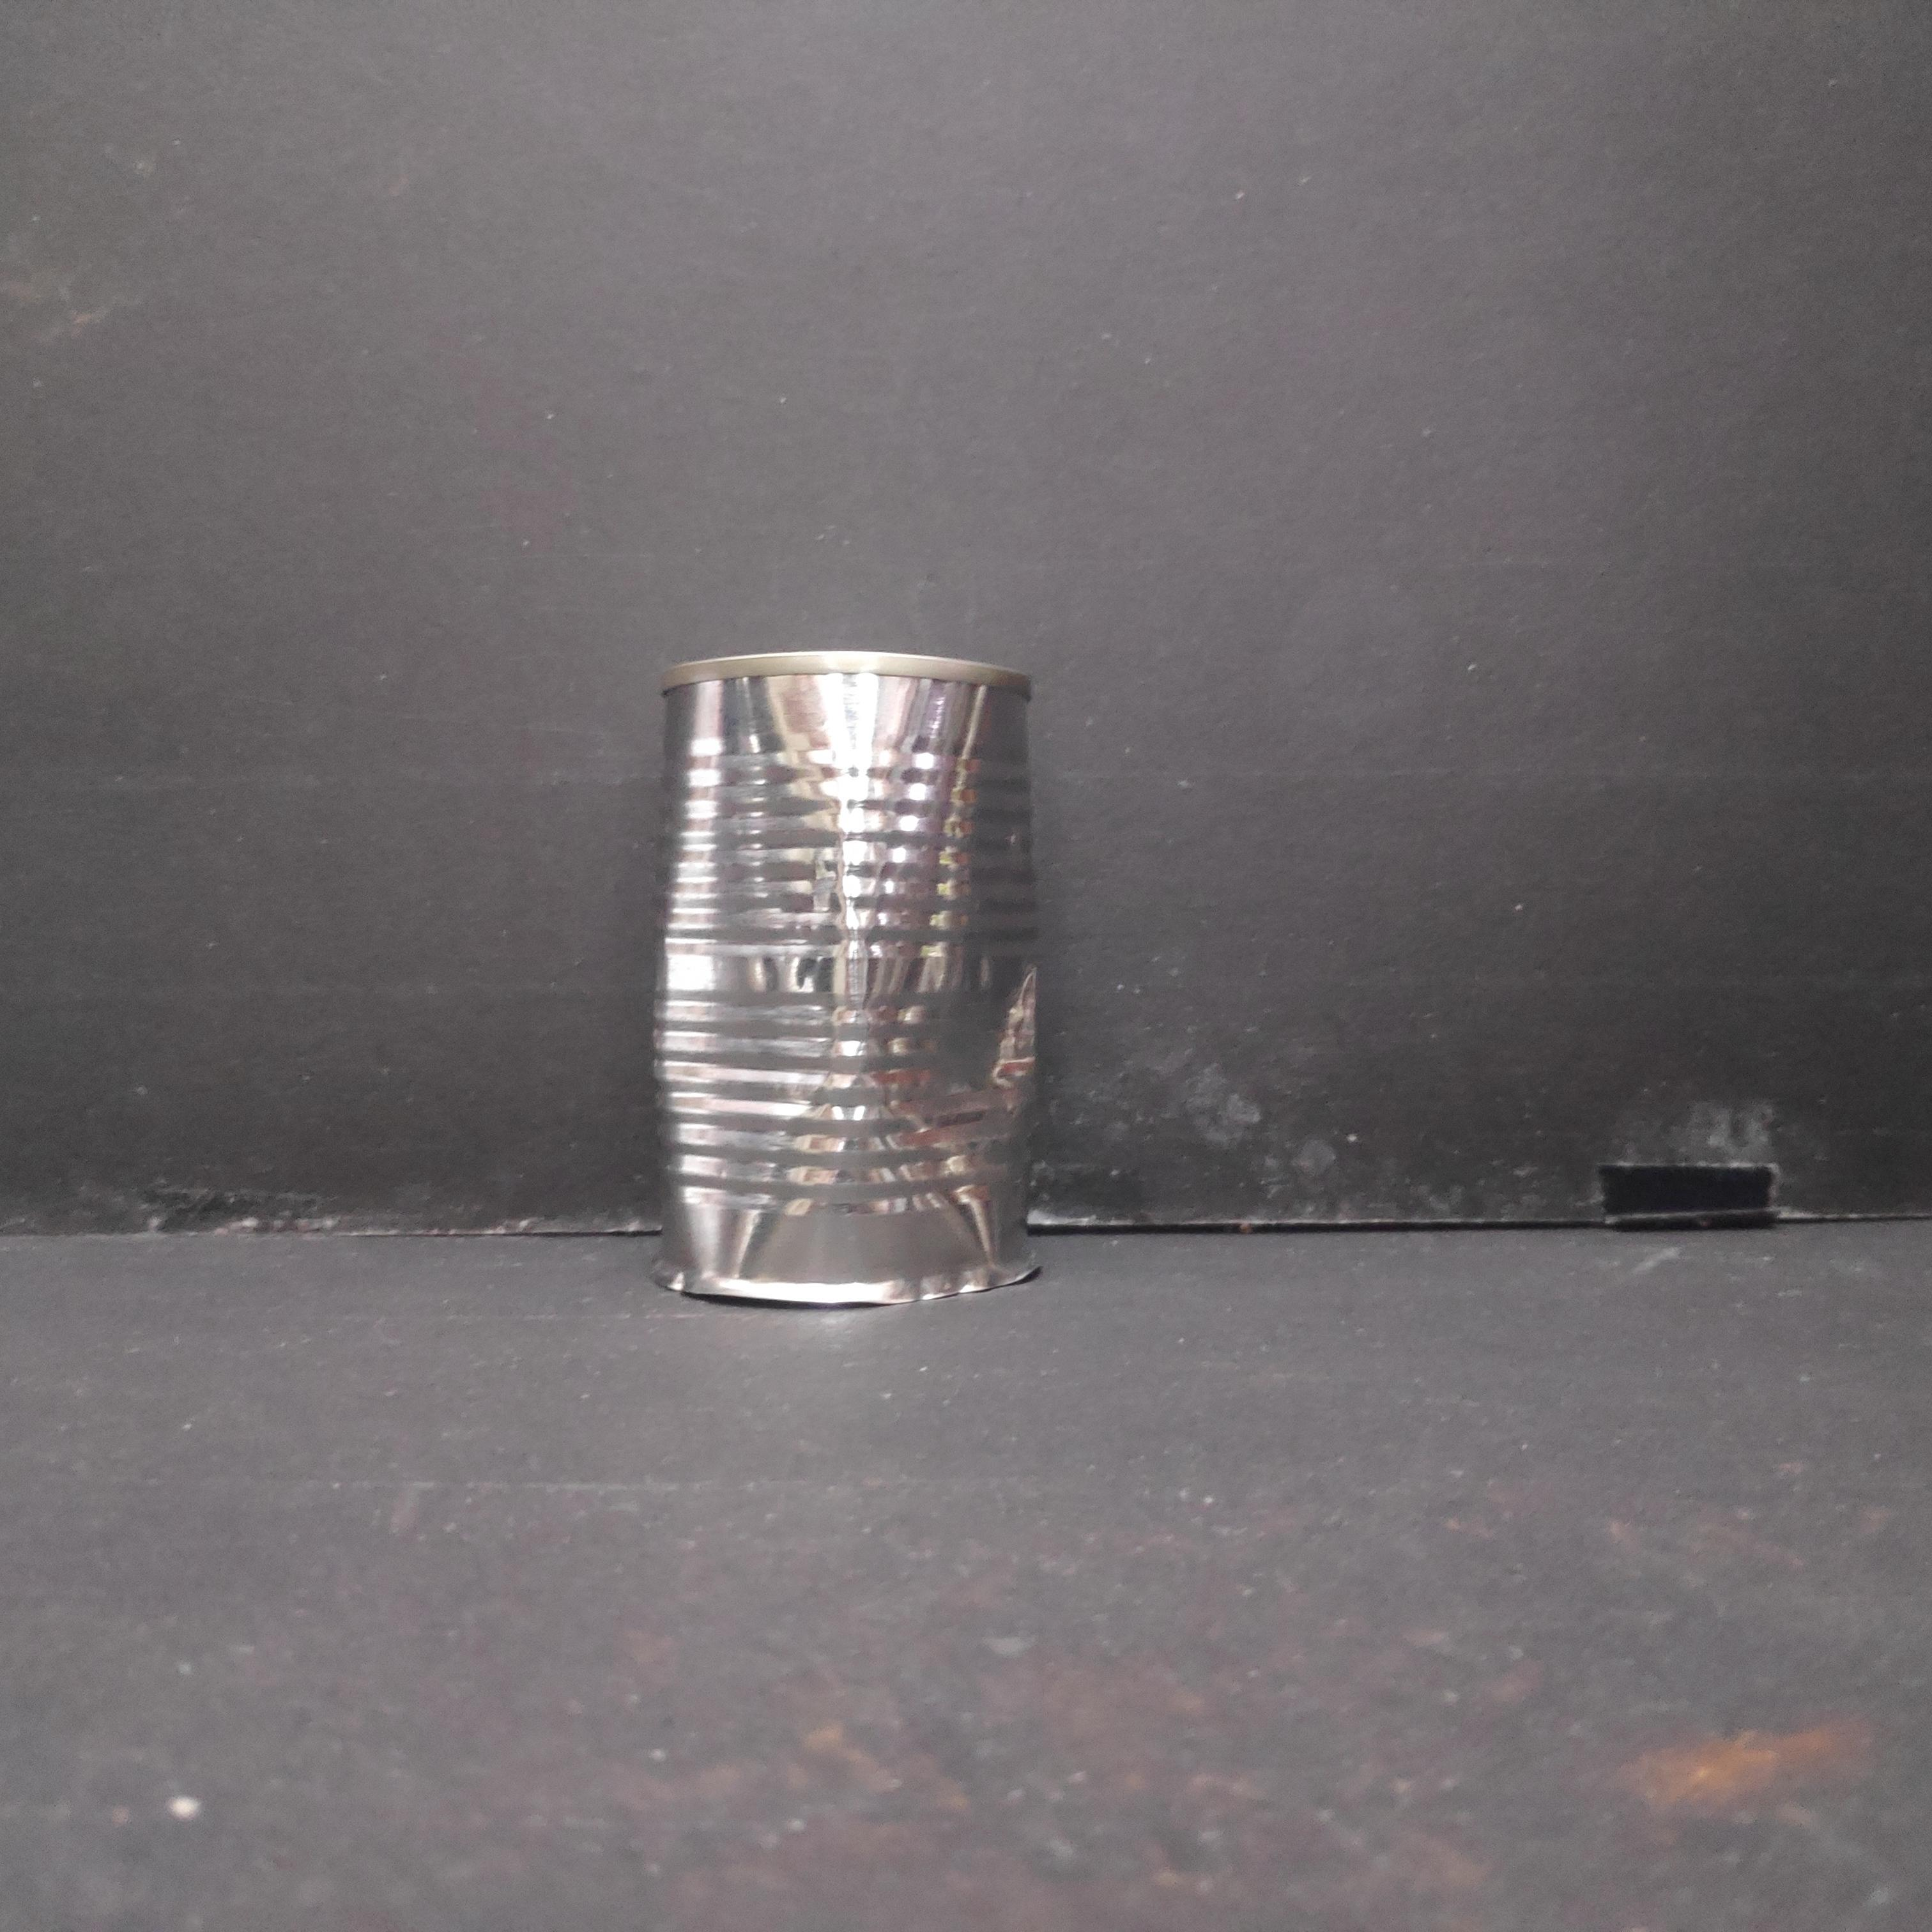Minor Defect: (644, 640, 1060, 1325)
